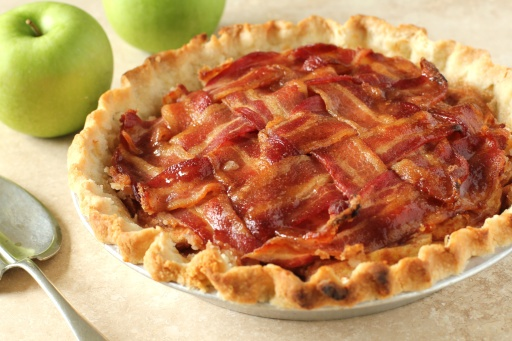background: (0, 0, 410, 165)
